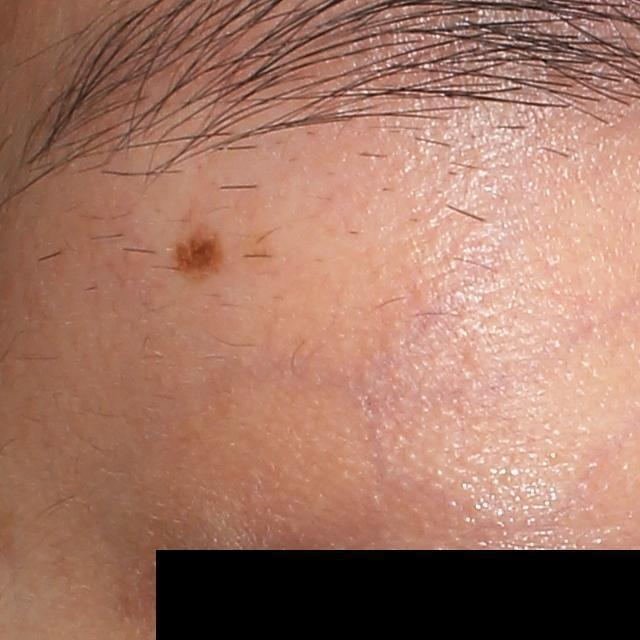nevus: (173, 218, 228, 284)
